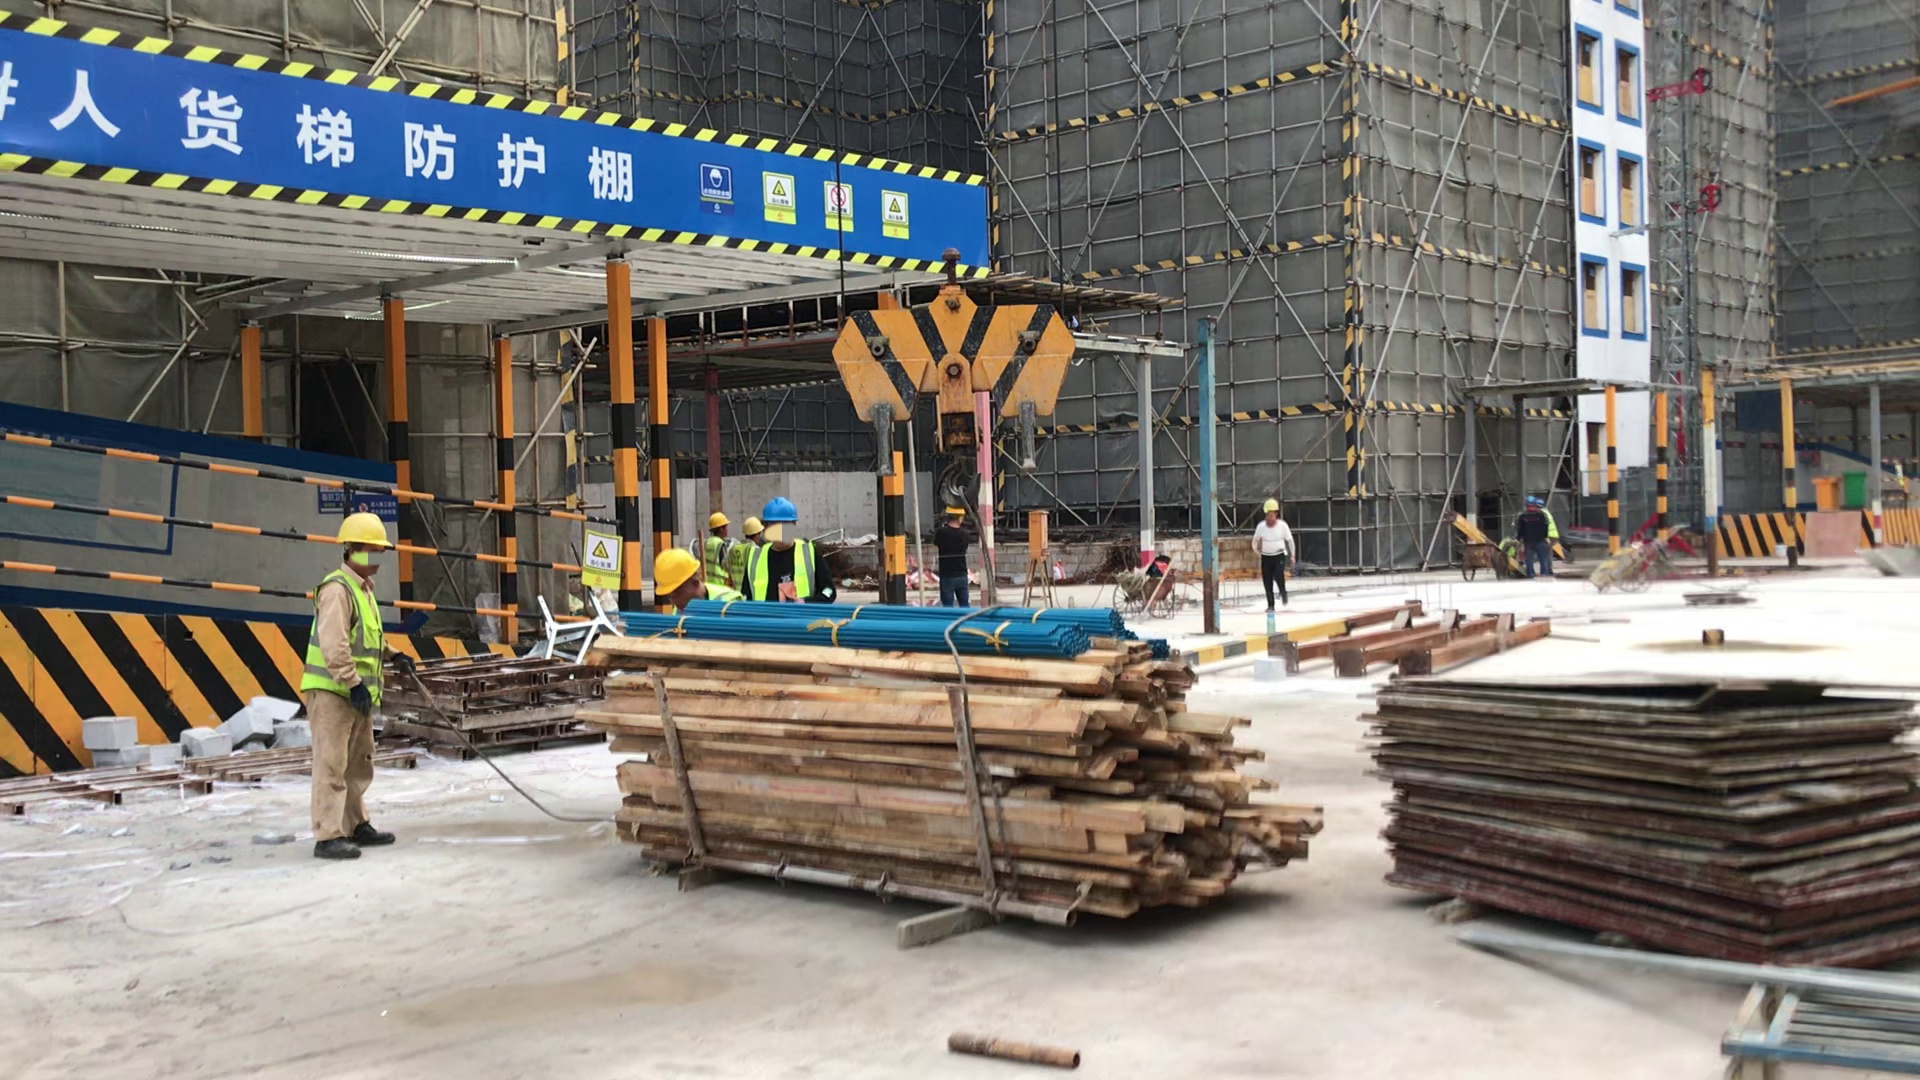board: (1381, 680, 1920, 962)
ebox: (1023, 514, 1051, 591), (1813, 476, 1842, 514)
handcart: (1113, 572, 1173, 619), (1598, 545, 1652, 595), (1458, 542, 1509, 574)
helmet: (654, 549, 701, 596), (336, 513, 394, 549), (763, 499, 798, 522), (709, 511, 730, 531), (745, 518, 764, 538), (1262, 499, 1278, 512), (1525, 496, 1537, 507)
hook: (832, 260, 1074, 510)
person: (305, 511, 396, 858), (758, 510, 827, 616), (651, 554, 746, 615), (1251, 500, 1296, 609), (929, 504, 970, 608), (1520, 499, 1547, 580), (706, 514, 732, 589), (1542, 492, 1559, 570), (742, 516, 759, 581)
slogan: (694, 162, 915, 235), (577, 534, 619, 584)
vest: (305, 580, 383, 703), (756, 549, 821, 607), (701, 540, 725, 586), (730, 543, 753, 586), (1542, 507, 1558, 540)
wood: (597, 637, 1313, 933)
